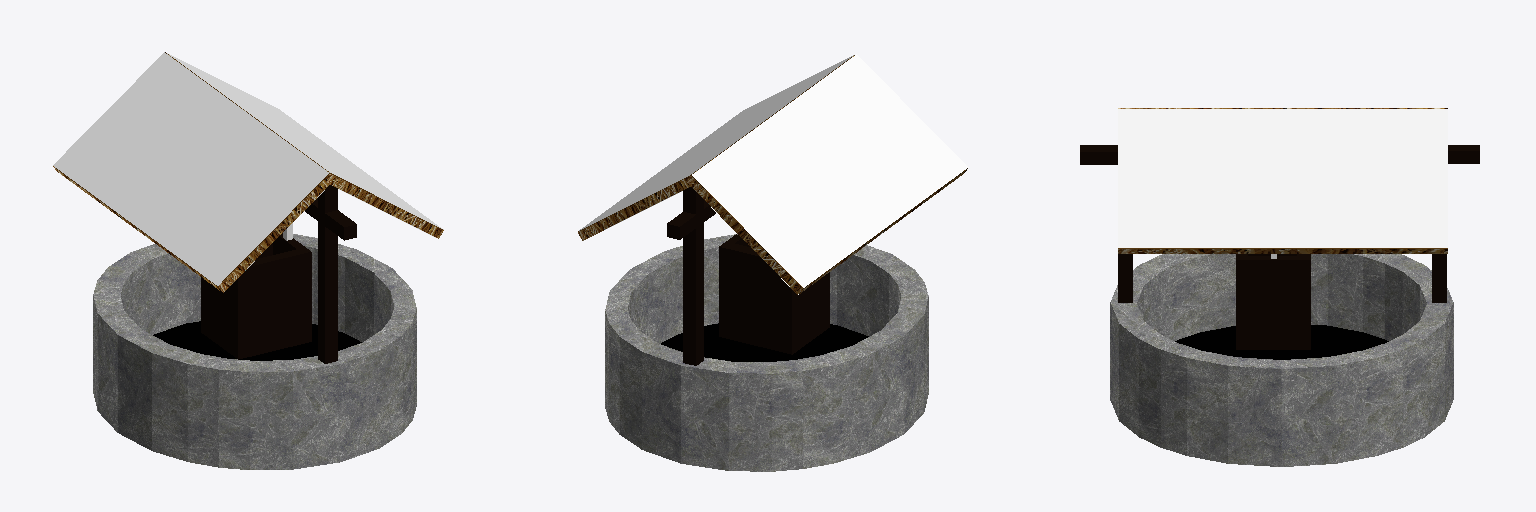
The picture shows the model from 3 angles: view 1: azimuth 30°, elevation 25°; view 2: azimuth 150°, elevation 25°; view 3: azimuth 270°, elevation 25°; orthographic projection.
Visible parts, largest first — view 1: Union1, Part31, Union2, Part24, Part18, Part40, Part20, Part27, Part38; view 2: Union1, Part31, Union2, Part24, Part39, Part40, Part28, Part21, Part38; view 3: Union1, Part24, Union2, Part40, Part25, Part38, Part18, Part39.
Boxes of the visible parts, x1,y1,x2,y2 form: Union1: [93, 234, 416, 469]; Part31: [53, 52, 328, 285]; Union2: [201, 233, 311, 359]; Part24: [167, 53, 443, 229]; Part18: [318, 185, 337, 363]; Part40: [153, 321, 361, 360]; Part20: [326, 174, 443, 238]; Part27: [219, 174, 329, 292]; Part38: [305, 198, 356, 240]; Union1: [605, 234, 928, 471]; Part31: [692, 54, 968, 287]; Union2: [719, 234, 829, 354]; Part24: [579, 55, 853, 230]; Part39: [683, 187, 703, 365]; Part40: [661, 323, 868, 361]; Part28: [686, 176, 802, 294]; Part21: [578, 176, 690, 240]; Part38: [667, 200, 715, 239]; Union1: [1110, 254, 1453, 466]; Part24: [1118, 109, 1447, 247]; Union2: [1236, 254, 1310, 349]; Part40: [1175, 325, 1388, 359]; Part25: [1118, 249, 1447, 253]; Part38: [1080, 145, 1479, 164]; Part18: [1118, 254, 1132, 302]; Part39: [1432, 254, 1446, 302].
Size of the model in its own units: 13.1 by 13.17 by 16.58.
Materials: 10 (3 with a texture image).